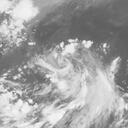cyclone: (37, 42, 111, 107)
